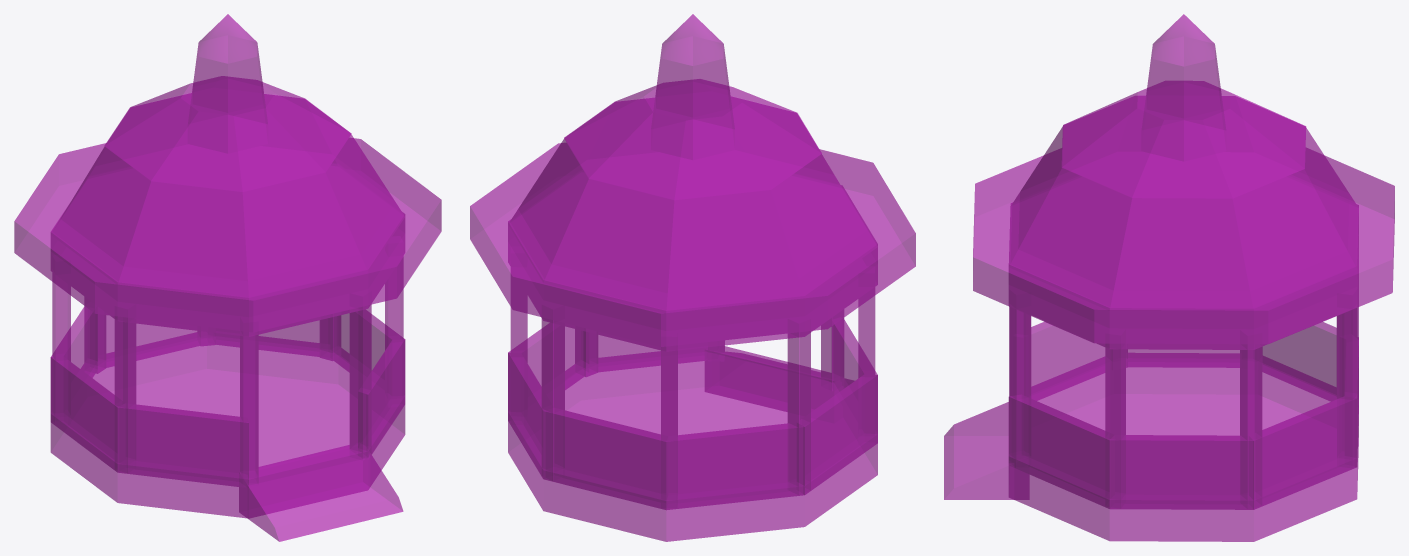
The model's file is SM_Prop_Pavilion_01_Collision.fbx.
3 renders of one model, left to right at view 1: azimuth 30°, elevation 25°; view 2: azimuth 150°, elevation 25°; view 3: azimuth 270°, elevation 25°, orthographic. The views are drawn at different scales.
Visible parts, largest first — view 1: SM_Prop_Pavilion_01_Collision; view 2: SM_Prop_Pavilion_01_Collision; view 3: SM_Prop_Pavilion_01_Collision.
Part boxes in pixels (x1,y1,x2,y2): SM_Prop_Pavilion_01_Collision: [14, 14, 441, 541]; SM_Prop_Pavilion_01_Collision: [470, 14, 915, 541]; SM_Prop_Pavilion_01_Collision: [944, 14, 1394, 541].
Bounding box in the file's own units: 508 × 603 × 543.
